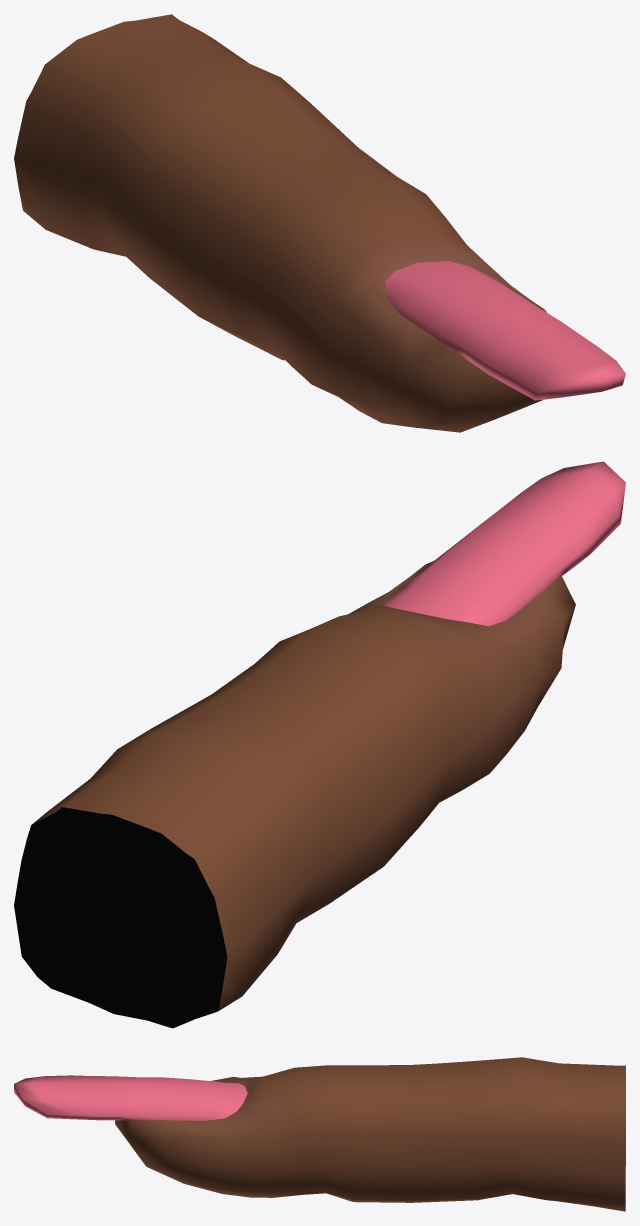
The model's file is ToonParmak.fbx.
3 renders of one model, top to bottom at view 1: azimuth 30°, elevation 25°; view 2: azimuth 150°, elevation 25°; view 3: azimuth 270°, elevation 25°, orthographic. The views are drawn at different scales.
Parts seen in each view (by area): view 1: body, body.001; view 2: body, body.001; view 3: body, body.001.
Boxes of the visible parts, x1,y1,x2,y2 form: body: (14, 14, 546, 432); body.001: (385, 261, 625, 400); body: (14, 561, 575, 1028); body.001: (383, 461, 625, 626); body: (115, 1057, 625, 1211); body.001: (14, 1075, 247, 1120).
Bounding box in the file's own units: 141 × 135 × 568.
